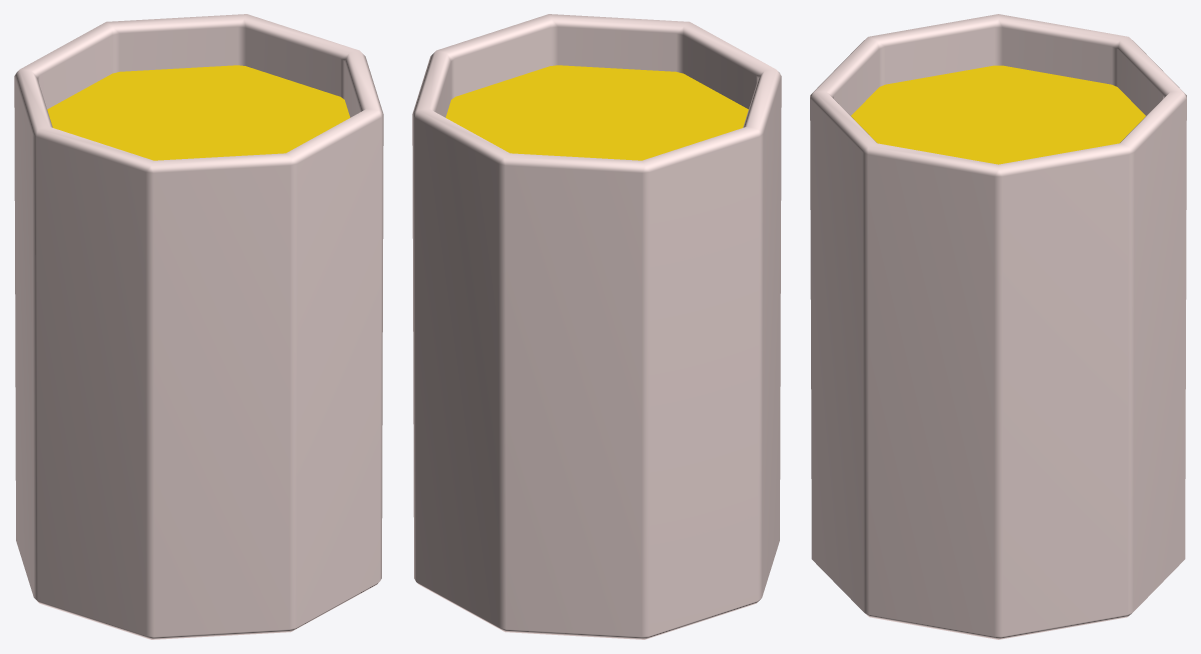
File: Town_18_Glass_2.glb
The picture shows the model from 3 angles, left to right: view 1: azimuth 30°, elevation 25°; view 2: azimuth 150°, elevation 25°; view 3: azimuth 270°, elevation 25°; orthographic projection.
Visible parts, largest first — view 1: Town_18_Glass_2; view 2: Town_18_Glass_2; view 3: Town_18_Glass_2.
Part boxes in pixels (left/top/right/bottom): Town_18_Glass_2: left=14, top=14, right=383, bottom=639; Town_18_Glass_2: left=412, top=14, right=781, bottom=639; Town_18_Glass_2: left=810, top=14, right=1186, bottom=639.
Bounding box in the file's own units: 0.116 × 0.16 × 0.116.
Materials: 1 (1 with a texture image).
